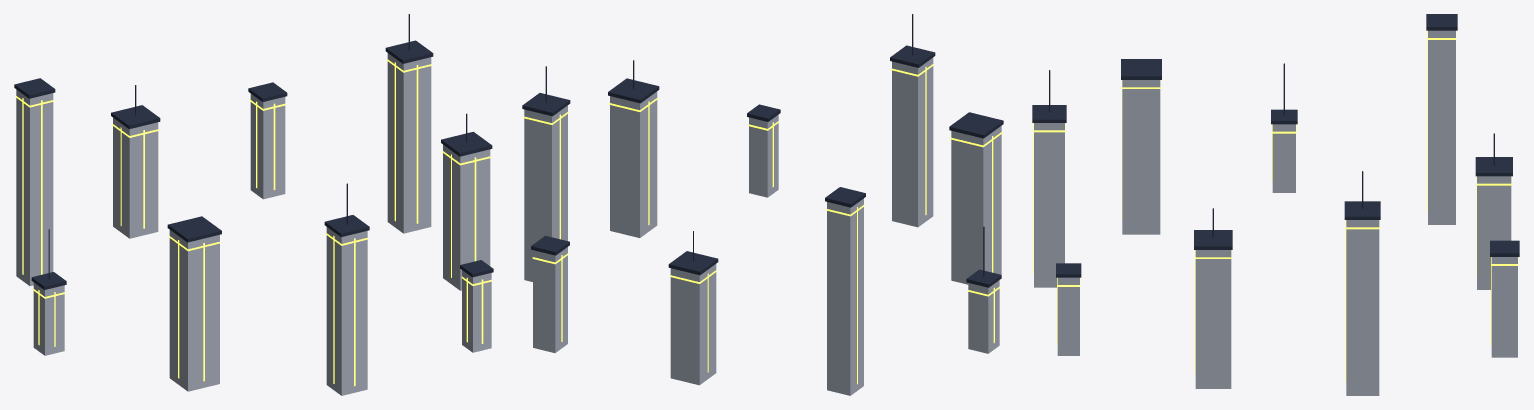
3 views of the same model, side by side, from view 1: azimuth 30°, elevation 25°; view 2: azimuth 150°, elevation 25°; view 3: azimuth 270°, elevation 25° (orthographic). The views are drawn at different scales.
Visible parts, largest first — view 1: nexo_spires_taller.lod0; view 2: nexo_spires_taller.lod0; view 3: nexo_spires_taller.lod0.
Boxes of the visible parts, x1=… form: nexo_spires_taller.lod0: x1=14, y1=14, x2=493, y2=395; nexo_spires_taller.lod0: x1=522, y1=14, x2=1003, y2=395; nexo_spires_taller.lod0: x1=1032, y1=14, x2=1519, y2=395.
Bounding box in the file's own units: 25.99 × 12.3 × 24.95.
